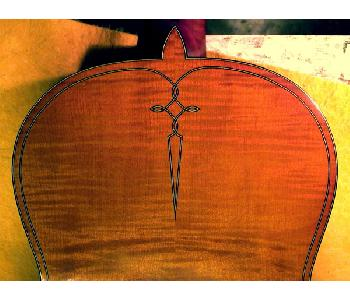guitar: (11, 24, 335, 280)
